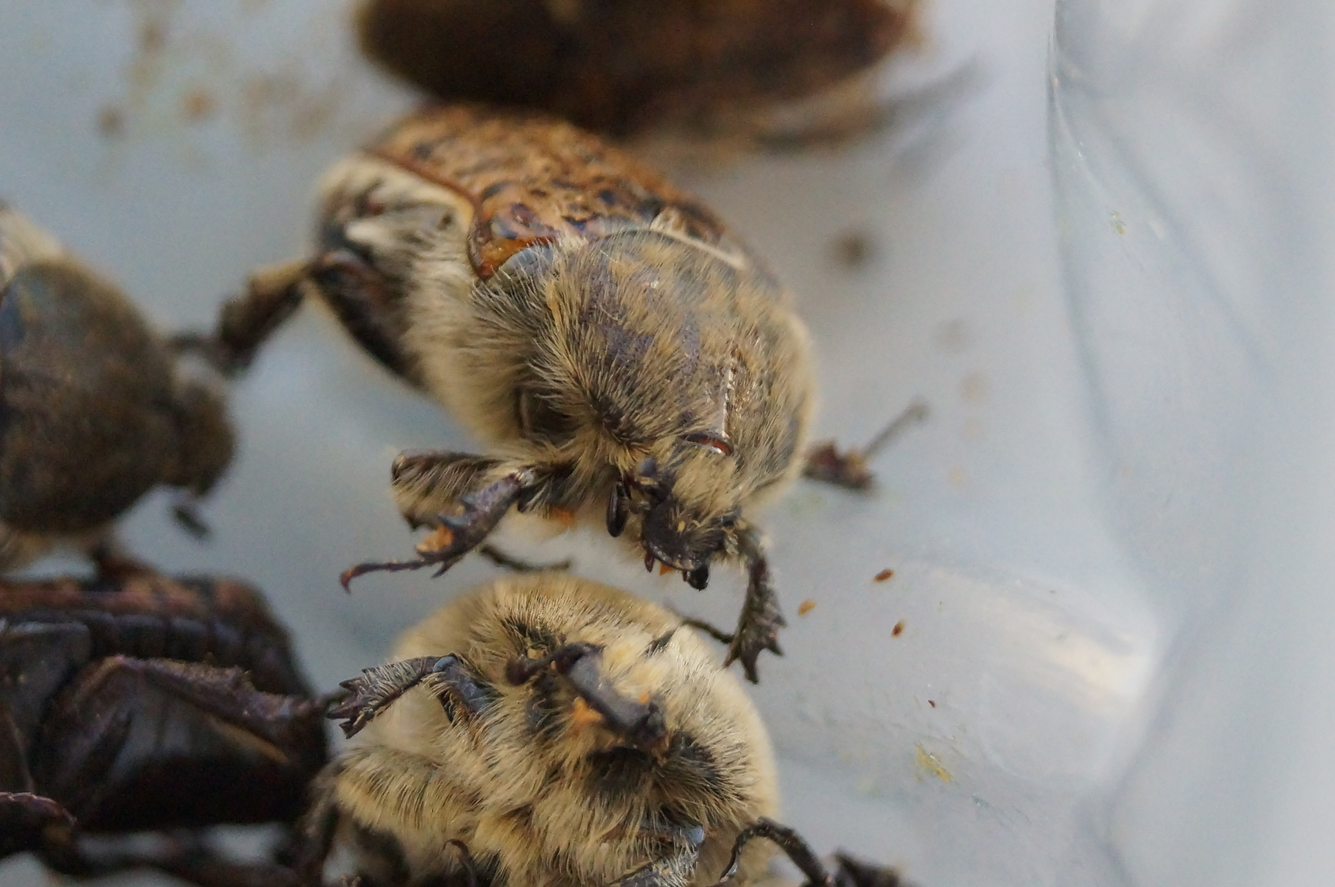insect: (0, 0, 937, 886)
